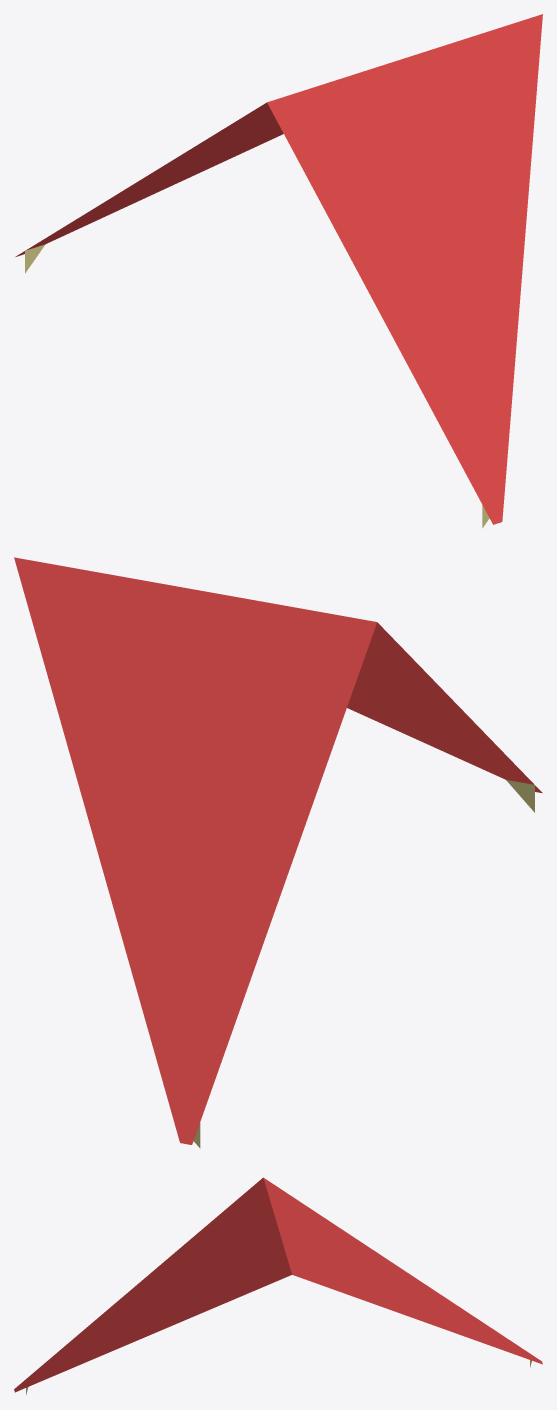
3 renders of one model, top to bottom at view 1: azimuth 30°, elevation 25°; view 2: azimuth 150°, elevation 25°; view 3: azimuth 270°, elevation 25°, orthographic. The views are drawn at different scales.
Bounding box in the file's own units: 5.43 × 10.82 × 4.64.
